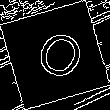O_SW: (24, 22, 86, 88)
